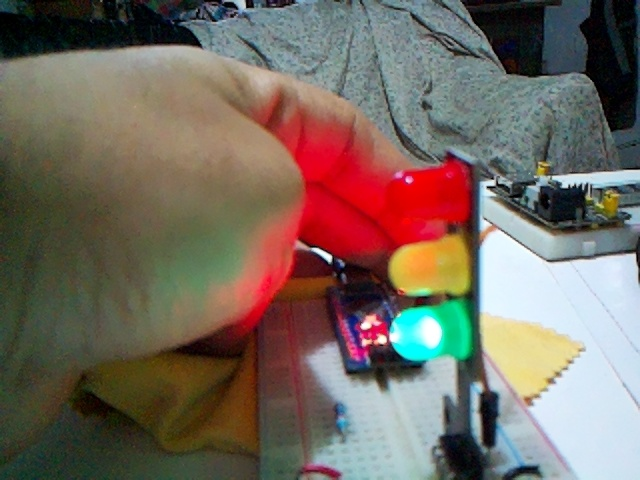traffic_light_green: (386, 295, 474, 363)
